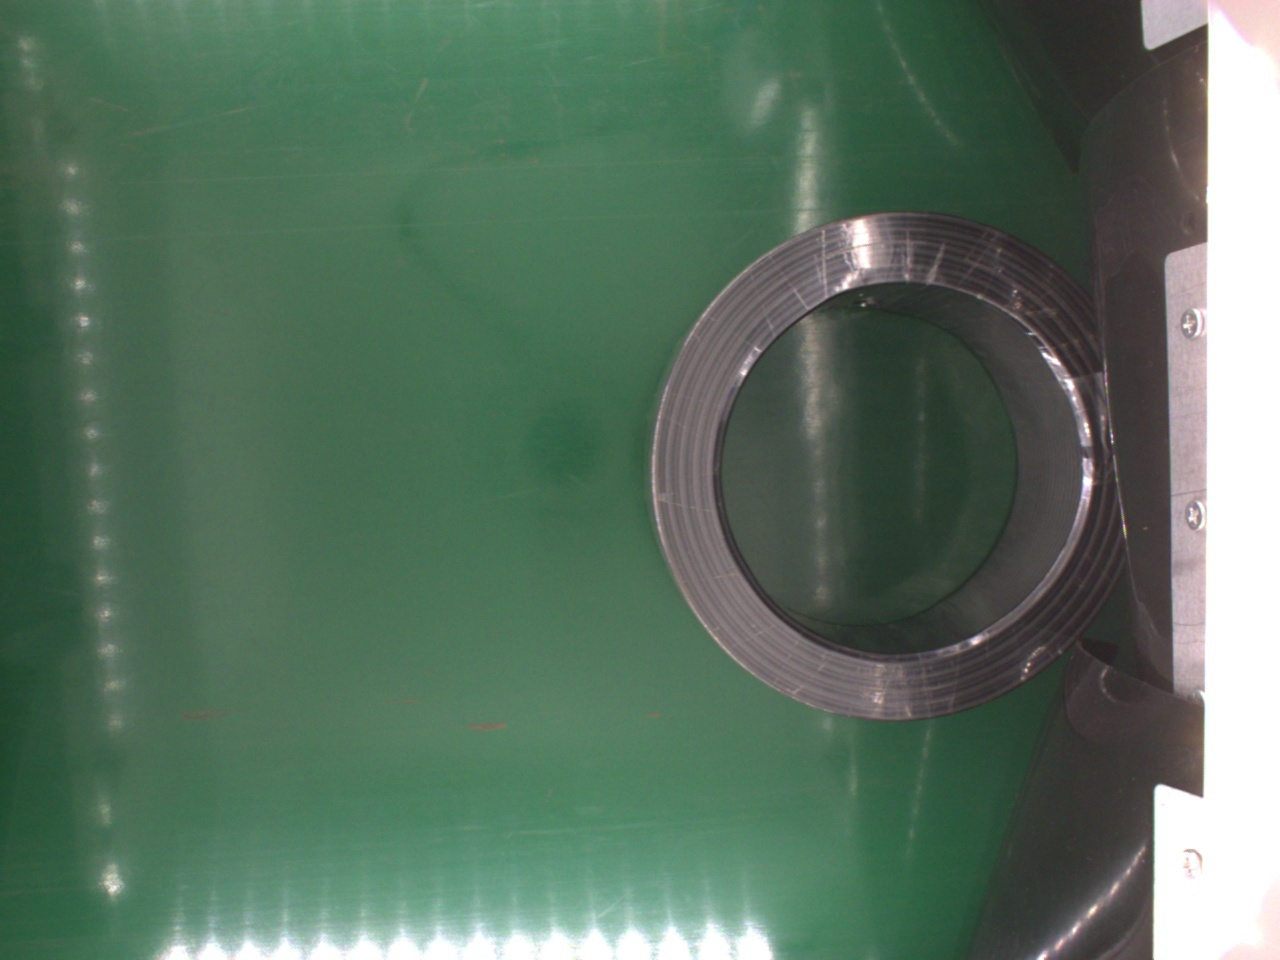black: (649, 207, 1123, 724)
